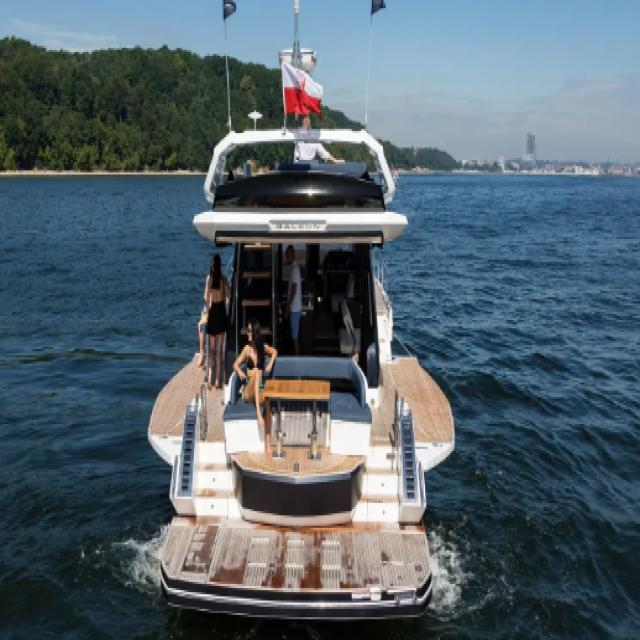houseboat: (148, 0, 454, 611)
